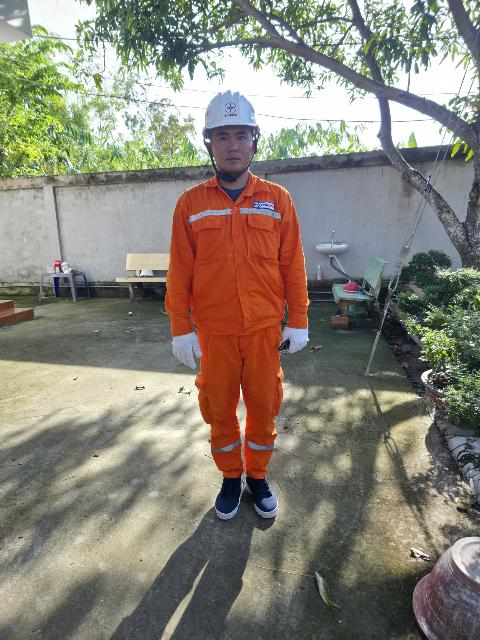gloves: (278, 306, 323, 366), (164, 332, 210, 369)
helmet: (206, 78, 272, 146)
shoes: (246, 466, 283, 519), (210, 471, 246, 520)
